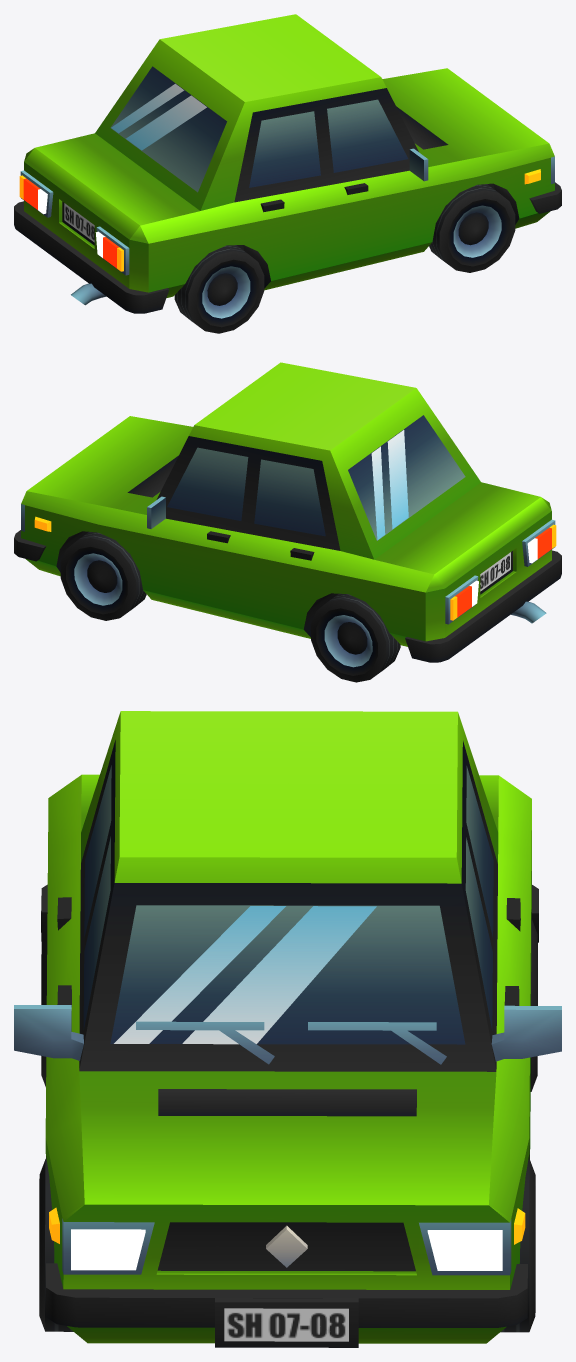
The picture shows the model from 3 angles, top to bottom: view 1: azimuth 30°, elevation 25°; view 2: azimuth 150°, elevation 25°; view 3: azimuth 270°, elevation 25°; orthographic projection. The views are drawn at different scales.
Visible parts, largest first — view 1: SHTV_Model_Car_Sedan; view 2: SHTV_Model_Car_Sedan; view 3: SHTV_Model_Car_Sedan.
Boxes of the visible parts, left/top/right/bottom form: SHTV_Model_Car_Sedan: left=14, top=14, right=561, bottom=333; SHTV_Model_Car_Sedan: left=14, top=362, right=561, bottom=682; SHTV_Model_Car_Sedan: left=14, top=711, right=561, bottom=1347.
Size of the model in its own units: 1.78 by 0.7671 by 0.9353.
2 materials, 2 textured.
